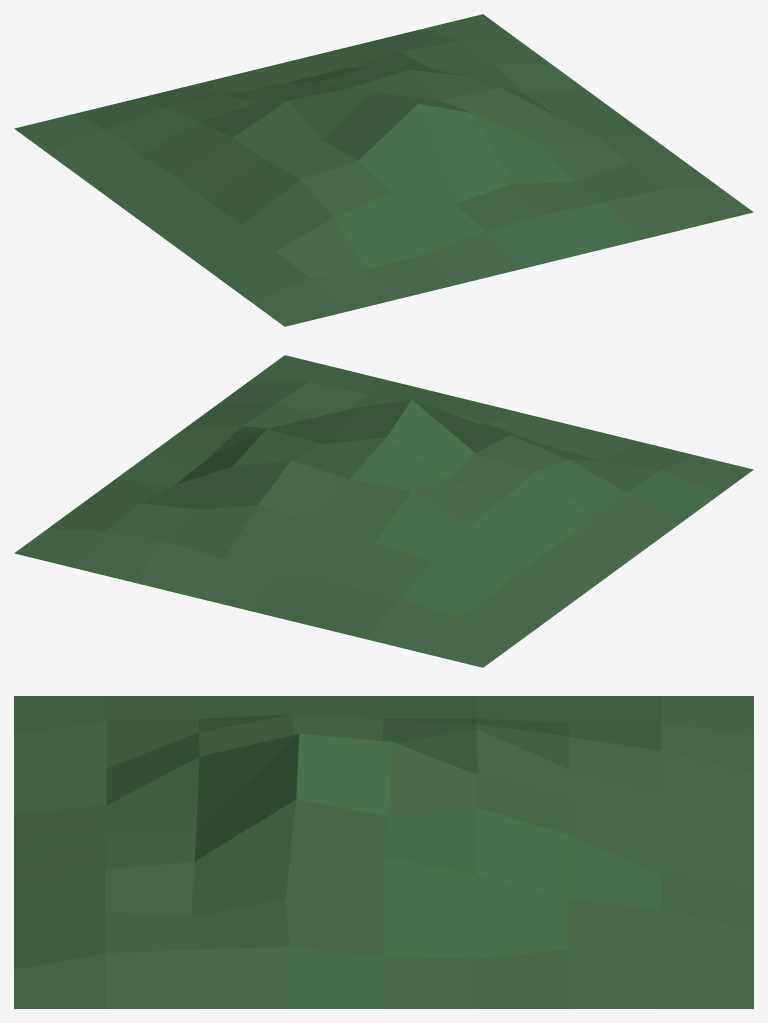
The model's file is Terrain_10_Light_Green.fbx.
3 views of the same model, one above another, from view 1: azimuth 30°, elevation 25°; view 2: azimuth 150°, elevation 25°; view 3: azimuth 270°, elevation 25° (orthographic). The views are drawn at different scales.
Parts seen in each view (by area): view 1: Terrain_10_Light_Green; view 2: Terrain_10_Light_Green; view 3: Terrain_10_Light_Green.
Boxes of the visible parts, box(x1,y1,x2,y2) form: Terrain_10_Light_Green: box(14, 14, 753, 326); Terrain_10_Light_Green: box(14, 355, 753, 667); Terrain_10_Light_Green: box(14, 696, 753, 1008).
Bounding box in the file's own units: 5000 × 902 × 5000.
